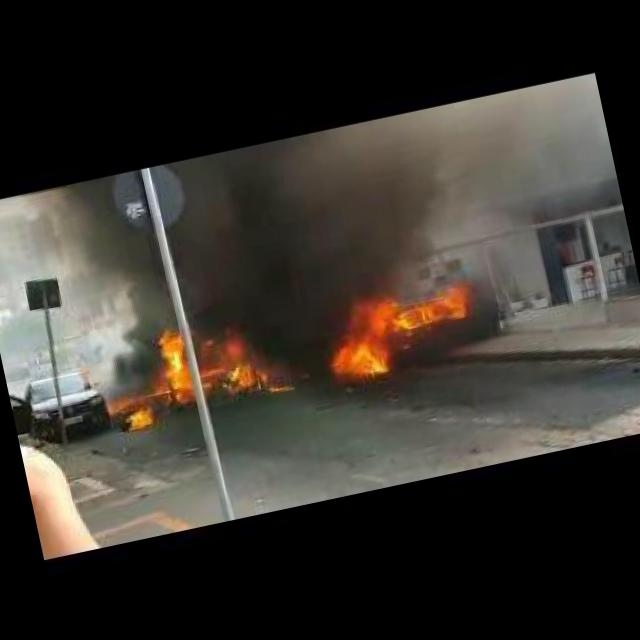fire: (323, 278, 476, 380), (154, 328, 193, 404), (220, 356, 266, 392), (122, 406, 158, 432), (266, 381, 294, 394)
smoke: (145, 102, 492, 384), (53, 214, 174, 402)
